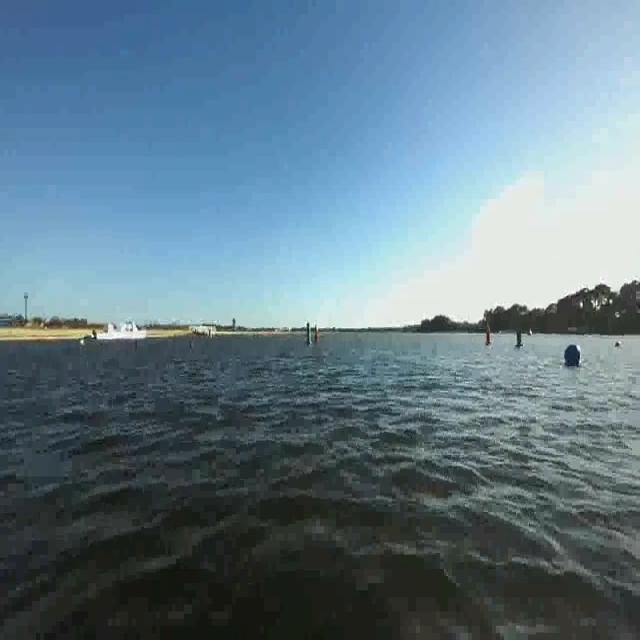blue-buoy: (564, 341, 582, 369)
green-column-buoy: (514, 320, 522, 350), (306, 321, 311, 350)
red-column-buoy: (486, 328, 492, 348)
